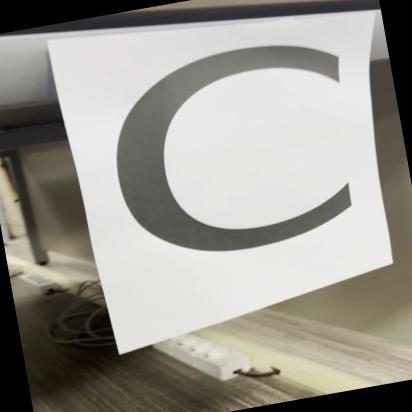seat: (53, 0, 400, 322)
